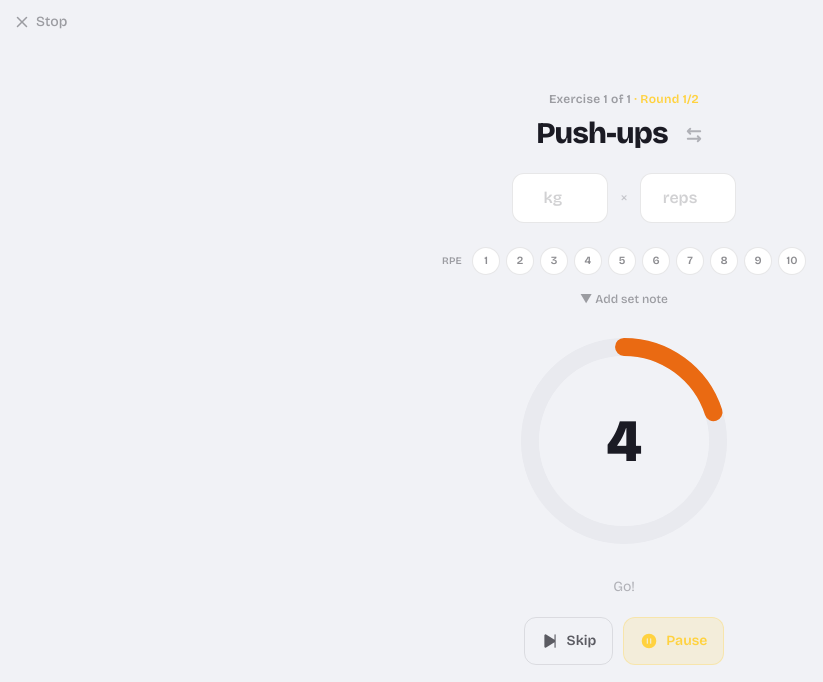
Test case: WorkoutRunner › shows Undo last set after a set is logged and clears it on click
Expected: the button "Undo last set" is not shown
// Log a set (weight + reps) on the current exercise.
Type "100" into the number field named "Weight in kg" at (560, 198), box [512, 173, 608, 223]
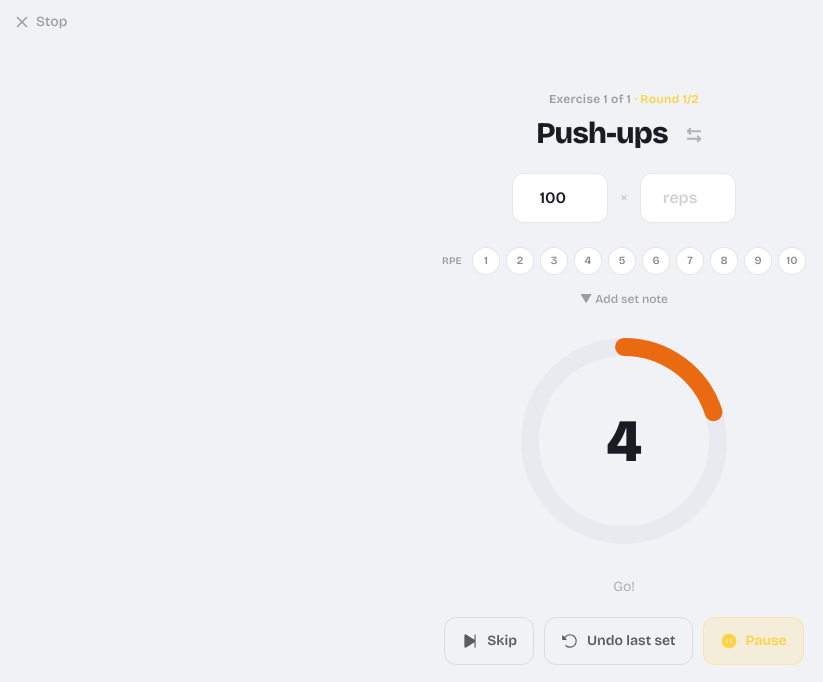
Type "10" into the number field labelled "reps" at (688, 198), box [640, 173, 736, 223]
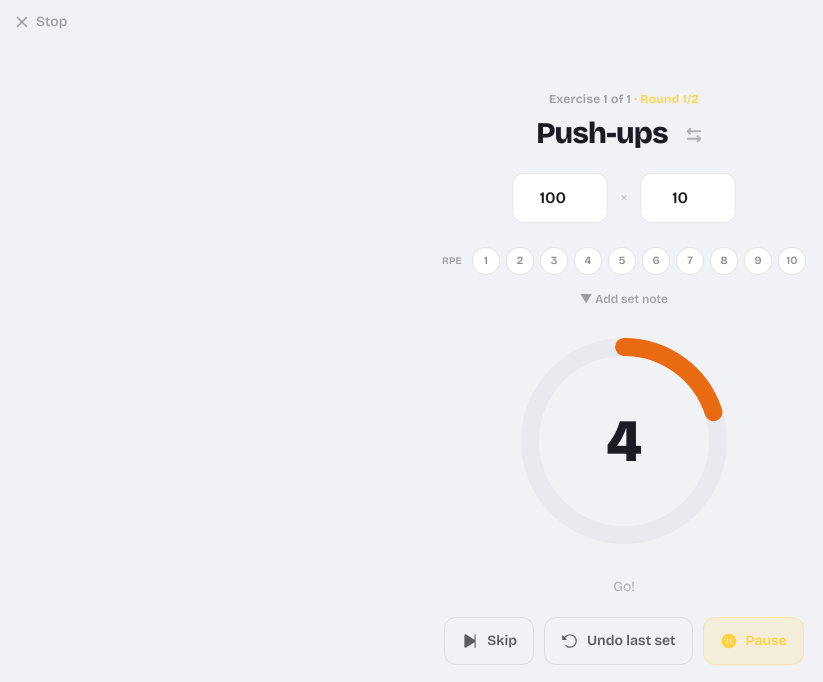
Now the button "Undo last set" is shown
// Undo removes the set and hides the button.
Click the button "Undo last set" at (618, 641), box [544, 617, 693, 665]
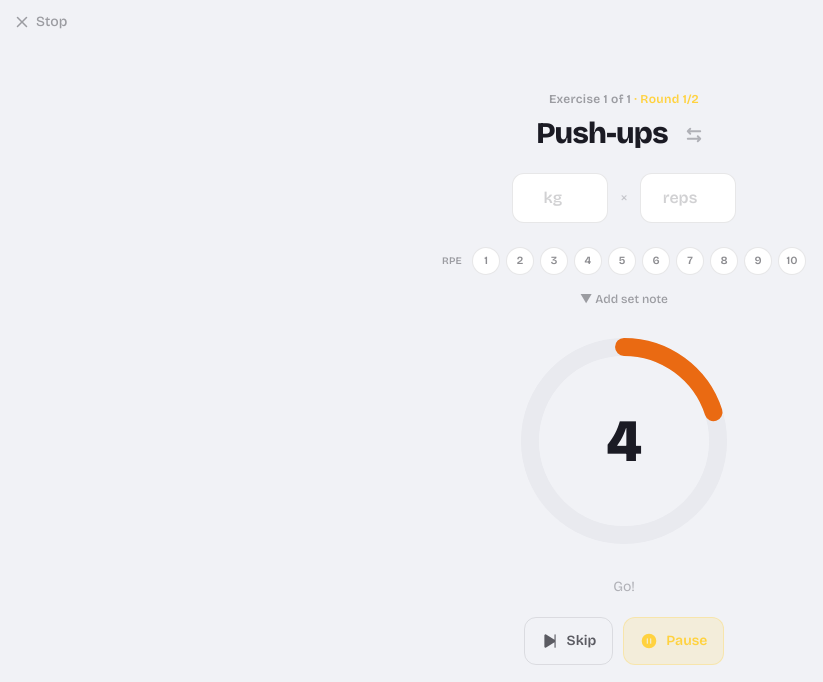
Now the number field named "Weight in kg" is empty, box [512, 173, 608, 223]
Now the number field labelled "reps" is empty, box [640, 173, 736, 223]
Now the button "Undo last set" is gone
